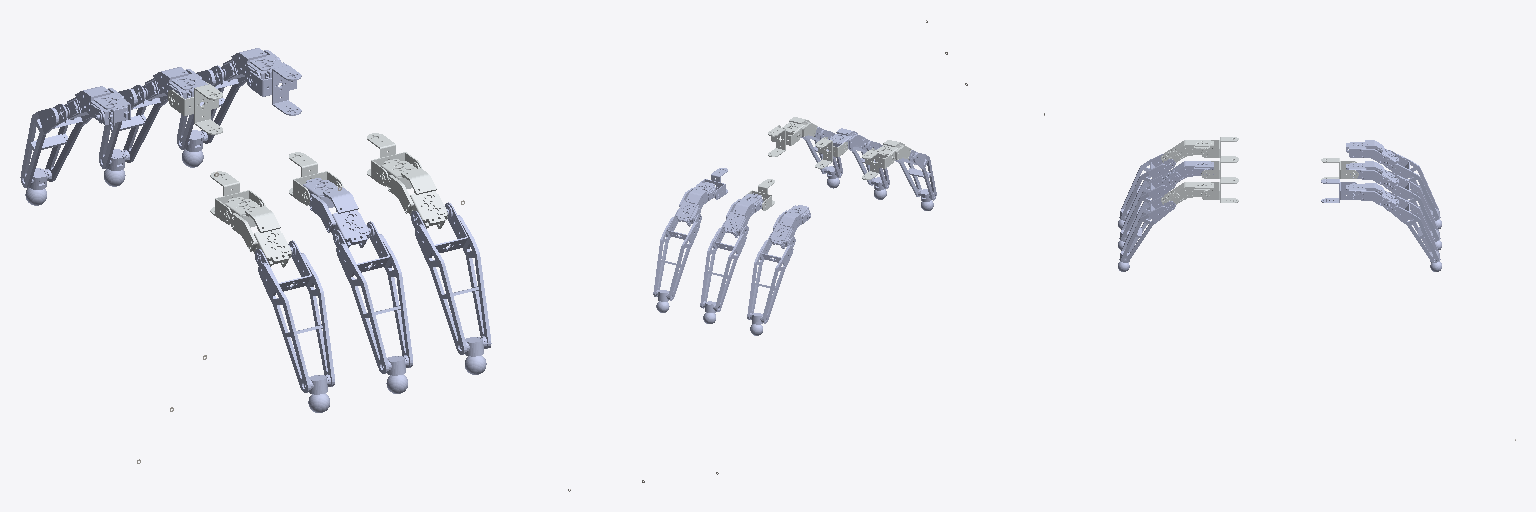
--- Render facts (derived) ---
3 views of the same robot in one strip: view 1: azimuth 30°, elevation 25°; view 2: azimuth 150°, elevation 25°; view 3: azimuth 270°, elevation 25° (orthographic).
Model Main_body_and_legs_assembly_v2 with 25 links and 24 joints (18 revolute, 6 fixed), rooted at base, posed every joint at zero.
Visible links, largest first — view 1: link_5C, link_4C, link_6C, link_3C, link_2C, link_4B, link_6B, link_5B, link_1C, link_3B, link_1A, link_2A (+5 smaller); view 2: link_3C, link_1C, link_2C, link_6C, link_3B, link_2B, link_1B, link_5C, link_4C, link_4A, link_5A, link_6A; view 3: link_1C, link_4C, link_3C, link_2C, link_6C, link_5C, link_3B, link_2B, link_1B, link_4B, link_5B, link_6B.
Boxes of the visible links, x1=… form: link_5C: x1=333, y1=221, x2=412, y2=393; link_4C: x1=411, y1=202, x2=491, y2=374; link_6C: x1=255, y1=240, x2=334, y2=412; link_3C: x1=20, y1=104, x2=93, y2=205; link_2C: x1=99, y1=85, x2=167, y2=186; link_4B: x1=381, y1=159, x2=447, y2=228; link_6B: x1=225, y1=197, x2=291, y2=267; link_5B: x1=303, y1=178, x2=369, y2=247; link_1C: x1=177, y1=65, x2=245, y2=167; link_3B: x1=64, y1=86, x2=130, y2=126; link_1A: x1=246, y1=62, x2=301, y2=115; link_2A: x1=168, y1=82, x2=222, y2=134; link_3C: x1=747, y1=233, x2=795, y2=335; link_1C: x1=653, y1=209, x2=701, y2=312; link_2C: x1=700, y1=222, x2=748, y2=323; link_6C: x1=895, y1=150, x2=936, y2=210; link_3B: x1=769, y1=205, x2=810, y2=248; link_2B: x1=723, y1=193, x2=763, y2=237; link_1B: x1=676, y1=182, x2=715, y2=226; link_5C: x1=849, y1=139, x2=889, y2=199; link_4C: x1=801, y1=127, x2=842, y2=188; link_4A: x1=768, y1=125, x2=801, y2=156; link_5A: x1=815, y1=137, x2=847, y2=168; link_6A: x1=862, y1=148, x2=894, y2=179; link_1C: x1=1384, y1=192, x2=1441, y2=271; link_4C: x1=1118, y1=196, x2=1175, y2=271; link_3C: x1=1384, y1=150, x2=1441, y2=228; link_2C: x1=1384, y1=171, x2=1441, y2=249; link_6C: x1=1118, y1=154, x2=1175, y2=228; link_5C: x1=1118, y1=175, x2=1175, y2=249; link_3B: x1=1346, y1=140, x2=1398, y2=165; link_2B: x1=1346, y1=161, x2=1398, y2=186; link_1B: x1=1346, y1=183, x2=1398, y2=207; link_4B: x1=1161, y1=182, x2=1213, y2=205; link_5B: x1=1161, y1=161, x2=1213, y2=186; link_6B: x1=1161, y1=140, x2=1213, y2=165.
Bounding box of the posed robot: 0.5184 × 1.16 × 0.7715 m (x, y, z).
Meshes: 11 distinct files referenced, 23 mesh visuals loaded (9 binary STL); not drawn: 2 (reference not matched to a file when rendering).

robot.urdf — Main_body_and_legs_assembly_v2:
<?xml version="1.0" encoding="utf-8"?>
<!-- This URDF was automatically created by SolidWorks to URDF Exporter! Originally created by Stephen Brawner ([email redacted]) 
     Commit Version: 1.6.0-4-g7f85cfe  Build Version: 1.6.7995.38578
     For more information, please see http://wiki.ros.org/sw_urdf_exporter -->
<robot
  name="Main_body_and_legs_assembly_v2">
  <link
    name="base">
    <inertial>
      <origin
        xyz="3.06905926068662E-05 8.52004995787279E-05 0.0204545302913889"
        rpy="0 0 0" />
      <mass
        value="1.98762838832469" />
      <inertia
        ixx="0.00418492339355666"
        ixy="-2.21548596146903E-12"
        ixz="-1.92233886023323E-14"
        iyy="0.0126897684477545"
        iyz="1.7530700223516E-13"
        izz="0.0167899601162181" />
    </inertial>
    <visual>
      <origin
        xyz="0 0 0"
        rpy="0 0 0" />
      <geometry>
        <mesh
          filename="package://Main_body_and_legs_assembly_v2/meshes/base.STL" />
      </geometry>
      <material
        name="">
        <color
          rgba="0.776470588235294 0.756862745098039 0.737254901960784 1" />
      </material>
    </visual>
    <collision>
      <origin
        xyz="0 0 0"
        rpy="0 0 0" />
      <geometry>
        <mesh
          filename="package://Main_body_and_legs_assembly_v2/meshes/base.STL" />
      </geometry>
    </collision>
  </link>
  <link
    name="link_1A">
    <inertial>
      <origin
        xyz="0.0365082022466295 0.00124839425515202 0.00125665986958783"
        rpy="0 0 0" />
      <mass
        value="0.0419431230011461" />
      <inertia
        ixx="1.98069360741525E-05"
        ixy="-2.12798993589226E-20"
        ixz="1.78912713620689E-15"
        iyy="1.66928950494981E-05"
        iyz="-3.23493559974154E-17"
        izz="1.66486725692838E-05" />
    </inertial>
    <visual>
      <origin
        xyz="0 0 0"
        rpy="0 0 0" />
      <geometry>
        <mesh
          filename="package://Main_body_and_legs_assembly_v2/meshes/linkA.STL" />
      </geometry>
      <material
        name="">
        <color
          rgba="0.792156862745098 0.819607843137255 0.933333333333333 1" />
      </material>
    </visual>
    <collision>
      <origin
        xyz="0 0 0"
        rpy="0 0 0" />
      <geometry>
        <mesh
          filename="package://Main_body_and_legs_assembly_v2/meshes/linkA.STL" />
      </geometry>
    </collision>
  </link>
  <joint
    name="joint_1A"
    type="revolute">
    <origin
      xyz="0.123 0.1143 0.027125"
      rpy="0 0 1.5708" />
    <parent
      link="base" />
    <child
      link="link_1A" />
    <axis
      xyz="0 0 1" />
    <limit
      lower="-1.5708"
      upper="1.5708"
      effort="1000"
      velocity="1" />
  </joint>
  <link
    name="link_1B">
    <inertial>
      <origin
        xyz="0.0466313826695305 0.00745781088796387 -0.000487069857446426"
        rpy="0 0 0" />
      <mass
        value="0.13674823781844" />
      <inertia
        ixx="2.34124688667489E-05"
        ixy="-4.38499697815386E-06"
        ixz="-9.21245381890255E-08"
        iyy="3.59373204224481E-05"
        iyz="2.92176241694494E-07"
        izz="3.03894454098166E-05" />
    </inertial>
    <visual>
      <origin
        xyz="0 0 0"
        rpy="0 0 0" />
      <geometry>
        <mesh
          filename="package://Main_body_and_legs_assembly_v2/meshes/linkB.STL" />
      </geometry>
      <material
        name="">
        <color
          rgba="0.792156862745098 0.819607843137255 0.933333333333333 1" />
      </material>
    </visual>
    <collision>
      <origin
        xyz="0 0 0"
        rpy="0 0 0" />
      <geometry>
        <mesh
          filename="package://Main_body_and_legs_assembly_v2/meshes/linkB.STL" />
      </geometry>
    </collision>
  </link>
  <joint
    name="joint_1B"
    type="revolute">
    <origin
      xyz="0.0676 0 0"
      rpy="-1.5708 0 0" />
    <parent
      link="link_1A" />
    <child
      link="link_1B" />
    <axis
      xyz="0 0 1" />
    <limit
      lower="-1.5708"
      upper="1.5708"
      effort="1000"
      velocity="1" />
  </joint>
  <link
    name="link_1C">
    <inertial>
      <origin
        xyz="0.0696117108170191 0.0836285031786368 0.000572339482803691"
        rpy="0 0 0" />
      <mass
        value="0.0955360213738482" />
      <inertia
        ixx="0.000113611278023489"
        ixy="-5.96071871988294E-05"
        ixz="-7.37144544599053E-07"
        iyy="6.53324044472298E-05"
        iyz="-7.75583132884179E-07"
        izz="0.000145627712780489" />
    </inertial>
    <visual>
      <origin
        xyz="0 0 0"
        rpy="0 0 0" />
      <geometry>
        <mesh
          filename="package://Main_body_and_legs_assembly_v2/meshes/linkC.STL" />
      </geometry>
      <material
        name="">
        <color
          rgba="0.792156862745098 0.819607843137255 0.933333333333333 1" />
      </material>
    </visual>
    <collision>
      <origin
        xyz="0 0 0"
        rpy="0 0 0" />
      <geometry>
        <mesh
          filename="package://Main_body_and_legs_assembly_v2/meshes/linkC.STL" />
      </geometry>
    </collision>
  </link>
  <joint
    name="joint_1C"
    type="revolute">
    <origin
      xyz="0.088094 0.027776 0"
      rpy="0 0 0" />
    <parent
      link="link_1B" />
    <child
      link="link_1C" />
    <axis
      xyz="0 0 1" />
    <limit
      lower="-3.1416"
      upper="0"
      effort="1000"
      velocity="1" />
  </joint>
  <link
    name="end_1">
    <inertial>
      <origin
        xyz="-0.00410004483583903 -0.0195989667647062 0.0438432984176538"
        rpy="0 0 0" />
      <mass
        value="0.000121627101665076" />
      <inertia
        ixx="4.52377066090502E-10"
        ixy="-3.08492480319445E-24"
        ixz="-1.56170968596841E-25"
        iyy="8.99721204847131E-10"
        iyz="8.5268521208753E-25"
        izz="4.52377066090501E-10" />
    </inertial>
    <visual>
      <origin
        xyz="0 0 0"
        rpy="0 0 0" />
      <geometry>
        <mesh
          filename="package://Main_body_and_legs_assembly_v2/meshes/end_1.STL" />
      </geometry>
      <material
        name="">
        <color
          rgba="0.776470588235294 0.756862745098039 0.737254901960784 1" />
      </material>
    </visual>
    <collision>
      <origin
        xyz="0 0 0"
        rpy="0 0 0" />
      <geometry>
        <mesh
          filename="package://Main_body_and_legs_assembly_v2/meshes/end_1.STL" />
      </geometry>
    </collision>
  </link>
  <joint
    name="end_1"
    type="fixed">
    <origin
      xyz="0.11638 0.19263 0"
      rpy="1.5708 0 0" />
    <parent
      link="link_1C" />
    <child
      link="end_1" />
    <axis
      xyz="0 0 0" />
  </joint>
  <link
    name="link_2A">
    <inertial>
      <origin
        xyz="0.0338000000000001 3.46944695195361E-17 -4.85722573273506E-17"
        rpy="0 0 0" />
      <mass
        value="0.0341524059403894" />
      <inertia
        ixx="1.96868649597394E-05"
        ixy="-2.25236268448084E-20"
        ixz="-1.09842144299169E-20"
        iyy="1.65457575690771E-05"
        iyz="6.9144272968417E-21"
        izz="1.65457575690771E-05" />
    </inertial>
    <visual>
      <origin
        xyz="0 0 0"
        rpy="0 0 0" />
      <geometry>
        <mesh
          filename="package://Main_body_and_legs_assembly_v2/meshes/linkA.STL" />
      </geometry>
      <material
        name="">
        <color
          rgba="0.898039215686275 0.917647058823529 0.929411764705882 1" />
      </material>
    </visual>
    <collision>
      <origin
        xyz="0 0 0"
        rpy="0 0 0" />
      <geometry>
        <mesh
          filename="package://Main_body_and_legs_assembly_v2/meshes/linkA.STL" />
      </geometry>
    </collision>
  </link>
  <joint
    name="joint_2A"
    type="revolute">
    <origin
      xyz="0 0.1143 0.027125"
      rpy="0 0 1.5708" />
    <parent
      link="base" />
    <child
      link="link_2A" />
    <axis
      xyz="0 0 1" />
    <limit
      lower="-1.5708"
      upper="1.5708"
      effort="1000"
      velocity="1" />
  </joint>
  <link
    name="link_2B">
    <inertial>
      <origin
        xyz="0.0477268124413496 0.00221734589930919 -0.00521377788396642"
        rpy="0 0 0" />
      <mass
        value="0.0532818021430644" />
      <inertia
        ixx="1.11052234753137E-05"
        ixy="-2.3453349714939E-06"
        ixz="-9.6521921313802E-08"
        iyy="1.78041960290935E-05"
        iyz="3.06121882148187E-07"
        izz="1.65887137379392E-05" />
    </inertial>
    <visual>
      <origin
        xyz="0 0 0"
        rpy="0 0 0" />
      <geometry>
        <mesh
          filename="package://Main_body_and_legs_assembly_v2/meshes/linkB.STL" />
      </geometry>
      <material
        name="">
        <color
          rgba="0.792156862745098 0.819607843137255 0.933333333333333 1" />
      </material>
    </visual>
    <collision>
      <origin
        xyz="0 0 0"
        rpy="0 0 0" />
      <geometry>
        <mesh
          filename="package://Main_body_and_legs_assembly_v2/meshes/linkB.STL" />
      </geometry>
    </collision>
  </link>
  <joint
    name="joint_2B"
    type="revolute">
    <origin
      xyz="0.0676 0 0"
      rpy="-1.5708 0 0" />
    <parent
      link="link_2A" />
    <child
      link="link_2B" />
    <axis
      xyz="0 0 1" />
    <limit
      lower="-1.5708"
      upper="1.5708"
      effort="1000"
      velocity="1" />
  </joint>
  <link
    name="link_2C">
    <inertial>
      <origin
        xyz="0.0675135596023975 0.0790176735898887 -1.48140645468281E-05"
        rpy="0 0 0" />
      <mass
        value="0.0849452422466676" />
      <inertia
        ixx="0.000113099905748951"
        ixy="-5.95933219193289E-05"
        ixz="-7.37144578192914E-07"
        iyy="6.49724187416238E-05"
        iyz="-7.7558259893965E-07"
        izz="0.000145042611120918" />
    </inertial>
    <visual>
      <origin
        xyz="0 0 0"
        rpy="0 0 0" />
      <geometry>
        <mesh
          filename="package://Main_body_and_legs_assembly_v2/meshes/linkC.STL" />
      </geometry>
      <material
        name="">
        <color
          rgba="0.792156862745098 0.819607843137255 0.933333333333333 1" />
      </material>
    </visual>
    <collision>
      <origin
        xyz="0 0 0"
        rpy="0 0 0" />
      <geometry>
        <mesh
          filename="package://Main_body_and_legs_assembly_v2/meshes/linkC.STL" />
      </geometry>
    </collision>
  </link>
  <joint
    name="joint_2C"
    type="revolute">
    <origin
      xyz="0.088094 0.027776 0"
      rpy="0 0 0" />
    <parent
      link="link_2B" />
    <child
      link="link_2C" />
    <axis
      xyz="0 0 1" />
    <limit
      lower="-3.1416"
      upper="0"
      effort="1000"
      velocity="1" />
  </joint>
  <link
    name="end_2">
    <inertial>
      <origin
        xyz="-0.00410004483584059 -0.0195989667647089 0.0438432984176536"
        rpy="0 0 0" />
      <mass
        value="0.000121627101665075" />
      <inertia
        ixx="4.52377066090495E-10"
        ixy="2.89946777015303E-25"
        ixz="2.44432529866028E-26"
        iyy="8.99721204847118E-10"
        iyz="-8.49539194842277E-25"
        izz="4.52377066090494E-10" />
    </inertial>
    <visual>
      <origin
        xyz="0 0 0"
        rpy="0 0 0" />
      <geometry>
        <mesh
          filename="package://Main_body_and_legs_assembly_v2/meshes/end_2.STL" />
      </geometry>
      <material
        name="">
        <color
          rgba="0.776470588235294 0.756862745098039 0.737254901960784 1" />
      </material>
    </visual>
    <collision>
      <origin
        xyz="0 0 0"
        rpy="0 0 0" />
      <geometry>
        <mesh
          filename="package://Main_body_and_legs_assembly_v2/meshes/end_2.STL" />
      </geometry>
    </collision>
  </link>
  <joint
    name="end_2"
    type="fixed">
    <origin
      xyz="0.11638 0.19263 0"
      rpy="1.5708 0 0" />
    <parent
      link="link_2C" />
    <child
      link="end_2" />
    <axis
      xyz="0 0 0" />
  </joint>
  <link
    name="linik_3A">
    <inertial>
      <origin
        xyz="0.0338000000000001 1.38777878078145E-17 0"
        rpy="0 0 0" />
      <mass
        value="0.0341524059403893" />
      <inertia
        ixx="1.96868649597393E-05"
        ixy="-6.83260352352941E-22"
        ixz="-5.54167693821813E-21"
        iyy="1.6545757569077E-05"
        iyz="9.56887699897572E-21"
        izz="1.65457575690771E-05" />
    </inertial>
    <visual>
      <origin
        xyz="0 0 0"
        rpy="0 0 0" />
      <geometry>
        <mesh
          filename="package://Main_body_and_legs_assembly_v2/meshes/linikA.STL" />
      </geometry>
      <material
        name="">
        <color
          rgba="0.898039215686275 0.917647058823529 0.929411764705882 1" />
      </material>
    </visual>
    <collision>
      <origin
        xyz="0 0 0"
        rpy="0 0 0" />
      <geometry>
        <mesh
          filename="package://Main_body_and_legs_assembly_v2/meshes/linikA.STL" />
      </geometry>
    </collision>
  </link>
  <joint
    name="join_3A"
    type="revolute">
    <origin
      xyz="-0.123 0.1143 0.027125"
      rpy="0 0 1.5708" />
    <parent
      link="base" />
    <child
      link="linik_3A" />
    <axis
      xyz="0 0 1" />
    <limit
      lower="-1.5708"
      upper="1.5708"
      effort="1000"
      velocity="1" />
  </joint>
  <link
    name="link_3B">
    <inertial>
      <origin
        xyz="0.0477268124413495 0.00221734589930918 -0.00521377788396642"
        rpy="0 0 0" />
      <mass
        value="0.0532818021430644" />
      <inertia
        ixx="1.11052234753137E-05"
        ixy="-2.3453349714939E-06"
        ixz="-9.65219213137863E-08"
        iyy="1.78041960290935E-05"
        iyz="3.06121882148191E-07"
        izz="1.65887137379392E-05" />
    </inertial>
    <visual>
      <origin
        xyz="0 0 0"
        rpy="0 0 0" />
      <geometry>
        <mesh
          filename="package://Main_body_and_legs_assembly_v2/meshes/linkB.STL" />
      </geometry>
      <material
        name="">
        <color
          rgba="0.792156862745098 0.819607843137255 0.933333333333333 1" />
      </material>
    </visual>
    <collision>
      <origin
        xyz="0 0 0"
        rpy="0 0 0" />
      <geometry>
        <mesh
          filename="package://Main_body_and_legs_assembly_v2/meshes/linkB.STL" />
      </geometry>
    </collision>
  </link>
  <joint
    name="joint_3B"
    type="revolute">
    <origin
      xyz="0.0676 0 0"
      rpy="-1.5708 0 0" />
    <parent
      link="linik_3A" />
    <child
      link="link_3B" />
    <axis
      xyz="0 0 1" />
    <limit
      lower="-1.5708"
      upper="1.5708"
      effort="1000"
      velocity="1" />
  </joint>
  <link
    name="link_3C">
    <inertial>
      <origin
        xyz="0.0675135596023975 0.0790176735898887 -1.48140645467448E-05"
        rpy="0 0 0" />
      <mass
        value="0.0849452422466675" />
      <inertia
        ixx="0.000113099905748951"
        ixy="-5.95933219193289E-05"
        ixz="-7.37144578192875E-07"
        iyy="6.49724187416236E-05"
        iyz="-7.75582598939603E-07"
        izz="0.000145042611120918" />
    </inertial>
    <visual>
      <origin
        xyz="0 0 0"
        rpy="0 0 0" />
      <geometry>
        <mesh
          filename="package://Main_body_and_legs_assembly_v2/meshes/linkC.STL" />
      </geometry>
      <material
        name="">
        <color
          rgba="0.792156862745098 0.819607843137255 0.933333333333333 1" />
      </material>
    </visual>
    <collision>
      <origin
        xyz="0 0 0"
        rpy="0 0 0" />
      <geometry>
        <mesh
          filename="package://Main_body_and_legs_assembly_v2/meshes/linkC.STL" />
      </geometry>
    </collision>
  </link>
  <joint
    name="joint_3C"
    type="revolute">
    <origin
      xyz="0.088094 0.027776 0"
      rpy="0 0 0" />
    <parent
      link="link_3B" />
    <child
      link="link_3C" />
    <axis
      xyz="0 0 1" />
    <limit
      lower="-3.1416"
      upper="0"
      effort="1000"
      velocity="1" />
  </joint>
  <link
    name="end_3">
    <inertial>
      <origin
        xyz="-0.00410004483584153 -0.0195989667647089 0.0438432984176525"
        rpy="0 0 0" />
      <mass
        value="0.000121627101665075" />
      <inertia
        ixx="4.52377066090494E-10"
        ixy="6.98581019903332E-25"
        ixz="7.30940327642206E-26"
        iyy="8.99721204847117E-10"
        iyz="5.16562939105432E-25"
        izz="4.52377066090494E-10" />
    </inertial>
    <visual>
      <origin
        xyz="0 0 0"
        rpy="0 0 0" />
      <geometry>
        <mesh
          filename="package://Main_body_and_legs_assembly_v2/meshes/end_3.STL" />
      </geometry>
      <material
        name="">
        <color
          rgba="0.776470588235294 0.756862745098039 0.737254901960784 1" />
      </material>
    </visual>
    <collision>
      <origin
        xyz="0 0 0"
        rpy="0 0 0" />
      <geometry>
        <mesh
          filename="package://Main_body_and_legs_assembly_v2/meshes/end_3.STL" />
      </geometry>
    </collision>
  </link>
  <joint
    name="end_3"
    type="fixed">
    <origin
      xyz="0.11638 0.19263 0"
      rpy="1.5708 0 0" />
    <parent
      link="link_3C" />
    <child
      link="end_3" />
    <axis
      xyz="0 0 0" />
  </joint>
  <link
    name="link_4A">
    <inertial>
      <origin
        xyz="0.0338 -2.77555756156289E-17 6.93889390390723E-18"
        rpy="0 0 0" />
      <mass
        value="0.0341524059403893" />
      <inertia
        ixx="1.96868649597393E-05"
        ixy="-1.10265468437645E-21"
        ixz="8.428060913054E-21"
        iyy="1.6545757569077E-05"
        iyz="8.32263974150179E-21"
        izz="1.6545757569077E-05" />
    </inertial>
    <visual>
      <origin
        xyz="0 0 0"
        rpy="0 0 0" />
      <geometry>
        <mesh
          filename="package://Main_body_and_legs_assembly_v2/meshes/linkA.STL" />
      </geometry>
      <material
        name="">
        <color
          rgba="0.898039215686275 0.917647058823529 0.929411764705882 1" />
      </material>
    </visual>
    <collision>
      <origin
        xyz="0 0 0"
        rpy="0 0 0" />
      <geometry>
        <mesh
          filename="package://Main_body_and_legs_assembly_v2/meshes/linkA.STL" />
      </geometry>
    </collision>
  </link>
  <joint
    name="joint_4A"
    type="revolute">
    <origin
      xyz="0.123 -0.1143 0.027125"
      rpy="0 0 -1.5708" />
    <parent
      link="base" />
    <child
      link="link_4A" />
    <axis
      xyz="0 0 1" />
    <limit
      lower="-1.5708"
      upper="1.5708"
      effort="1000"
      velocity="1" />
  </joint>
  <link
    name="link_4B">
    <inertial>
      <origin
        xyz="0.0548901243382081 0.00975728520332532 0.00223982654764818"
        rpy="0 0 0" />
      <mass
        value="0.0652795410633985" />
      <inertia
        ixx="1.18257231594884E-05"
        ixy="-2.20604091274123E-06"
        ixz="8.00665659012232E-08"
        iyy="1.7690724162594E-05"
        iyz="8.97316250264323E-08"
        izz="1.47906502270655E-05" />
    </inertial>
    <visual>
      <origin
        xyz="0 0 0"
        rpy="0 0 0" />
      <geometry>
        <mesh
          filename="package://Main_body_and_legs_assembly_v2/meshes/linkB.STL" />
      </geometry>
      <material
        name="">
        <color
          rgba="0.898039215686275 0.917647058823529 0.929411764705882 1" />
      </material>
    </visual>
    <collision>
      <origin
        xyz="0 0 0"
        rpy="0 0 0" />
      <geometry>
        <mesh
          filename="package://Main_body_and_legs_assembly_v2/meshes/linkB.STL" />
      </geometry>
    </collision>
  </link>
  <joint
    name="joint_4B"
    type="revolute">
    <origin
      xyz="0.0676 0 0"
      rpy="-1.5708 0 0" />
    <parent
      link="link_4A" />
    <child
      link="link_4B" />
    <axis
      xyz="0 0 1" />
    <limit
      lower="-1.5708"
      upper="1.5708"
      effort="1000"
      velocity="1" />
  </joint>
  <link
    name="link_4C">
    <inertial>
      <origin
        xyz="0.0691356551065098 0.0722031911758511 -2.79215990402482E-05"
        rpy="0 0 0" />
      <mass
        value="0.0450243950253752" />
      <inertia
        ixx="9.52243308302762E-05"
        ixy="-5.6031526729293E-05"
        ixz="-7.37162092416096E-07"
        iyy="4.4230695063899E-05"
        iyz="-7.75577330057588E-07"
        izz="0.000133295391768205" />
    </inertial>
    <visual>
      <origin
        xyz="0 0 0"
        rpy="0 0 0" />
      <geometry>
        <mesh
          filename="package://Main_body_and_legs_assembly_v2/meshes/linkC.STL" />
      </geometry>
      <material
        name="">
        <color
          rgba="0.792156862745098 0.819607843137255 0.933333333333333 1" />
      </material>
    </visual>
    <collision>
      <origin
        xyz="0 0 0"
        rpy="0 0 0" />
      <geometry>
        <mesh
          filename="package://Main_body_and_legs_assembly_v2/meshes/linkC.STL" />
      </geometry>
    </collision>
  </link>
  <joint
    name="joint_4C"
    type="revolute">
    <origin
      xyz="0.088094 0.027776 0"
      rpy="0 0 0" />
    <parent
      link="link_4B" />
    <child
      link="link_4C" />
    <axis
      xyz="0 0 1" />
    <limit
      lower="-3.1416"
      upper="0"
      effort="1000"
      velocity="1" />
  </joint>
  <link
    name="end_4">
    <inertial>
      <origin
        xyz="-0.00410004483583909 0.0195989667647062 0.0438432984176537"
        rpy="0 0 0" />
      <mass
        value="0.000121627101665079" />
      <inertia
        ixx="4.52377066090513E-10"
        ixy="3.80378277890683E-24"
        ixz="3.80944339010322E-26"
        iyy="8.99721204847155E-10"
        iyz="1.07812287688573E-24"
        izz="4.52377066090514E-10" />
    </inertial>
    <visual>
      <origin
        xyz="0 0 0"
        rpy="0 0 0" />
      <geometry>
        <mesh
          filename="package://Main_body_and_legs_assembly_v2/meshes/end_4.STL" />
      </geometry>
      <material
        name="">
        <color
          rgba="0.776470588235294 0.756862745098039 0.737254901960784 1" />
      </material>
    </visual>
    <collision>
      <origin
        xyz="0 0 0"
        rpy="0 0 0" />
      <geometry>
        <mesh
          filename="package://Main_body_and_legs_assembly_v2/meshes/end_4.STL" />
      </geometry>
    </collision>
  </link>
  <joint
    name="end_4"
    type="fixed">
    <origin
      xyz="0.11638 0.19263 0"
      rpy="1.5708 0 0" />
    <parent
      link="link_4C" />
    <child
      link="end_4" />
    <axis
      xyz="0 0 0" />
  </joint>
  <link
    name="link_5A">
    <inertial>
      <origin
        xyz="0.0338 3.46944695195361E-17 -3.46944695195361E-17"
        rpy="0 0 0" />
      <mass
        value="0.0341524059403895" />
      <inertia
        ixx="1.96868649597394E-05"
        ixy="-1.47949234785216E-20"
        ixz="-1.27676322871883E-20"
        iyy="1.65457575690771E-05"
        iyz="5.95032510376786E-21"
        izz="1.65457575690771E-05" />
    </inertial>
    <visual>
      <origin
        xyz="0 0 0"
        rpy="0 0 0" />
      <geometry>
        <mesh
          filename="package://Main_body_and_legs_assembly_v2/meshes/linkA.STL" />
      </geometry>
      <material
        name="">
        <color
          rgba="0.898039215686275 0.917647058823529 0.929411764705882 1" />
      </material>
    </visual>
    <collision>
      <origin
        xyz="0 0 0"
        rpy="0 0 0" />
      <geometry>
        <mesh
          filename="package://Main_body_and_legs_assembly_v2/meshes/linkA.STL" />
      </geometry>
    </collision>
  </link>
  <joint
    name="joint_5A"
    type="revolute">
    <origin
      xyz="0 -0.1143 0.027125"
      rpy="0 0 -1.5708" />
    <parent
      link="base" />
    <child
      link="link_5A" />
    <axis
      xyz="0 0 1" />
    <limit
      lower="-1.5708"
      upper="1.5708"
      effort="1000"
      velocity="1" />
  </joint>
  <link
    name="link_5B">
    <inertial>
      <origin
        xyz="0.0281338220437115 0.00206414493964424 -0.00616045955038509"
        rpy="0 0 0" />
      <mass
        value="0.0632362894323662" />
      <inertia
        ixx="1.30611376264431E-05"
        ixy="-1.4837421680611E-06"
        ixz="-2.21926196482373E-07"
        iyy="2.08931841634217E-05"
        iyz="7.9987872399068E-07"
        izz="1.56889686517995E-05" />
    </inertial>
    <visual>
      <origin
        xyz="0 0 0"
        rpy="0 0 0" />
      <geometry>
        <mesh
          filename="package://Main_body_and_legs_assembly_v2/meshes/linkB.STL" />
      </geometry>
      <material
        name="">
        <color
          rgba="0.792156862745098 0.819607843137255 0.933333333333333 1" />
      </material>
    </visual>
    <collision>
      <origin
        xyz="0 0 0"
        rpy="0 0 0" />
      <geometry>
        <mesh
          filename="package://Main_body_and_legs_assembly_v2/meshes/linkB.STL" />
      </geometry>
    </collision>
  </link>
  <joint
    name="joint_5B"
    type="revolute">
    <origin
      xyz="0.0676 0 0"
      rpy="-1.5708 0 0" />
    <parent
      link="link_5A" />
    <child
      link="link_5B" />
    <axis
      xyz="0 0 1" />
    <limit
      lower="-1.5708"
      upper="1.5708"
      effort="1000"
      velocity="1" />
  </joint>
  <link
    name="link_5C">
    <inertial>
      <origin
        xyz="0.0691356551065098 0.072203191175851 -2.79215990403731E-05"
        rpy="0 0 0" />
      <mass
        value="0.0450243950253752" />
      <inertia
        ixx="9.52243308302762E-05"
        ixy="-5.6031526729293E-05"
        ixz="-7.37162092416138E-07"
        iyy="4.4230695063899E-05"
        iyz="-7.75577330057605E-07"
        izz="0.000133295391768205" />
    </inertial>
    <visual>
      <origin
        xyz="0 0 0"
        rpy="0 0 0" />
      <geometry>
        <mesh
          filename="package://Main_body_and_legs_assembly_v2/meshes/linkC.STL" />
      </geometry>
      <material
        name="">
        <color
          rgba="0.792156862745098 0.819607843137255 0.933333333333333 1" />
      </material>
    </visual>
    <collision>
      <origin
        xyz="0 0 0"
        rpy="0 0 0" />
      <geometry>
        <mesh
          filename="package://Main_body_and_legs_assembly_v2/meshes/linkC.STL" />
      </geometry>
    </collision>
  </link>
  <joint
    name="joint_5C"
    type="revolute">
    <origin
      xyz="0.088094 0.027776 0"
      rpy="0 0 0" />
    <parent
      link="link_5B" />
    <child
      link="link_5C" />
    <axis
      xyz="0 0 1" />
    <limit
      lower="-3.1416"
      upper="0"
      effort="1000"
      velocity="1" />
  </joint>
  <link
    name="end_5">
    <inertial>
      <origin
        xyz="-0.00410004483584081 0.0195989667647085 0.0438432984176532"
        rpy="0 0 0" />
      <mass
        value="0.000121627101665074" />
      <inertia
        ixx="4.5237706609049E-10"
        ixy="-1.1586100411982E-25"
        ixz="9.55400297038205E-28"
        iyy="8.99721204847109E-10"
        iyz="5.15477091279902E-25"
        izz="4.5237706609049E-10" />
    </inertial>
    <visual>
      <origin
        xyz="0 0 0"
        rpy="0 0 0" />
      <geometry>
        <mesh
          filename="package://Main_body_and_legs_assembly_v2/meshes/end_5.STL" />
      </geometry>
      <material
        name="">
        <color
          rgba="0.776470588235294 0.756862745098039 0.737254901960784 1" />
      </material>
    </visual>
    <collision>
      <origin
        xyz="0 0 0"
        rpy="0 0 0" />
      <geometry>
        <mesh
          filename="package://Main_body_and_legs_assembly_v2/meshes/end_5.STL" />
      </geometry>
    </collision>
  </link>
  <joint
    name="end_5"
    type="fixed">
    <origin
      xyz="0.11638 0.19263 0"
      rpy="1.5708 0 0" />
    <parent
      link="link_5C" />
    <child
      link="end_5" />
    <axis
      xyz="0 0 0" />
  </joint>
  <link
    name="link_6A">
    <inertial>
      <origin
        xyz="0.0200966387284088 -1.38777878078145E-17 -9.0205620750794E-17"
        rpy="0 0 0" />
      <mass
        value="0.0170762029701947" />
      <inertia
        ixx="9.84343247986968E-06"
        ixy="-8.96331108691267E-22"
        ixz="-8.8579353702754E-21"
        iyy="1.22807539986136E-05"
        iyz="-3.09610337499698E-21"
        izz="4.26500357046348E-06" />
    </inertial>
    <visual>
      <origin
        xyz="0 0 0"
        rpy="0 0 0" />
      <geometry>
        <mesh
          filename="package://Main_body_and_legs_assembly_v2/meshes/linkA.STL" />
      </geometry>
      <material
        name="">
        <color
          rgba="0.898039215686275 0.917647058823529 0.929411764705882 1" />
      </material>
    </visual>
    <collision>
      <origin
        xyz="0 0 0"
        rpy="0 0 0" />
      <geometry>
        <mesh
          filename="package://Main_body_and_legs_assembly_v2/meshes/linkA.STL" />
      </geometry>
    </collision>
  </link>
  <joint
    name="joint_6A"
    type="revolute">
    <origin
      xyz="-0.123 -0.1143 0.027125"
      rpy="0 0 -1.5708" />
    <parent
      link="base" />
    <child
      link="link_6A" />
    <axis
      xyz="0 0 1" />
    <limit
      lower="-1.5708"
      upper="1.5708"
      effort="1000"
      velocity="1" />
  </joint>
  <link
    name="link_6B">
    <inertial>
      <origin
        xyz="0.0470944543092932 0.00422293619787709 -0.0106620647424304"
        rpy="0 0 0" />
      <mass
        value="0.0309095029465362" />
      <inertia
        ixx="7.87565609616052E-06"
        ixy="-1.48374226439959E-06"
        ixz="-2.52202898074651E-07"
        iyy="1.21136648352194E-05"
        iyz="7.99878858861314E-07"
        izz="9.98803847611489E-06" />
    </inertial>
    <visual>
      <origin
        xyz="0 0 0"
        rpy="0 0 0" />
      <geometry>
        <mesh
          filename="package://Main_body_and_legs_assembly_v2/meshes/linkB.STL" />
      </geometry>
      <material
        name="">
        <color
          rgba="0.898039215686275 0.917647058823529 0.929411764705882 1" />
      </material>
    </visual>
    <collision>
      <origin
        xyz="0 0 0"
        rpy="0 0 0" />
      <geometry>
        <mesh
          filename="package://Main_body_and_legs_assembly_v2/meshes/linkB.STL" />
      </geometry>
    </collision>
  </link>
  <joint
    name="joint_6B"
    type="revolute">
    <origin
      xyz="0.0676 0 0"
      rpy="-1.5708 0 0" />
    <parent
      link="link_6A" />
    <child
      link="link_6B" />
    <axis
      xyz="0 0 1" />
    <limit
      lower="-1.5708"
      upper="1.5708"
      effort="1000"
      velocity="1" />
  </joint>
  <link
    name="link_6C">
    <inertial>
      <origin
        xyz="0.0697808888465137 0.0728818743520102 -0.0227003855153271"
        rpy="0 0 0" />
      <mass
        value="0.0239812742514519" />
      <inertia
        ixx="4.89271620791903E-05"
        ixy="-2.81778017112261E-05"
        ixz="-3.22730454689505E-06"
        iyy="2.34286998419899E-05"
        iyz="-4.71726475473415E-06"
        izz="6.70206065643009E-05" />
    </inertial>
    <visual>
      <origin
        xyz="0 0 0"
        rpy="0 0 0" />
      <geometry>
        <mesh
          filename="package://Main_body_and_legs_assembly_v2/meshes/linkC.STL" />
      </geometry>
      <material
        name="">
        <color
          rgba="0.792156862745098 0.819607843137255 0.933333333333333 1" />
      </material>
    </visual>
    <collision>
      <origin
        xyz="0 0 0"
        rpy="0 0 0" />
      <geometry>
        <mesh
          filename="package://Main_body_and_legs_assembly_v2/meshes/linkC.STL" />
      </geometry>
    </collision>
  </link>
  <joint
    name="joint_6C"
    type="revolute">
    <origin
      xyz="0.088094 0.027776 0"
      rpy="0 0 0" />
    <parent
      link="link_6B" />
    <child
      link="link_6C" />
    <axis
      xyz="0 0 1" />
    <limit
      lower="-3.1416"
      upper="0"
      effort="1000"
      velocity="1" />
  </joint>
  <link
    name="end_6">
    <inertial>
      <origin
        xyz="-0.00410004483584098 0.019598966764709 0.0438432984176527"
        rpy="0 0 0" />
      <mass
        value="0.000121627101665074" />
      <inertia
        ixx="4.52377066090492E-10"
        ixy="-1.13461447962352E-25"
        ixz="6.52941298796618E-27"
        iyy="8.99721204847112E-10"
        iyz="-2.40168402249804E-26"
        izz="4.52377066090492E-10" />
    </inertial>
    <visual>
      <origin
        xyz="0 0 0"
        rpy="0 0 0" />
      <geometry>
        <mesh
          filename="package://Main_body_and_legs_assembly_v2/meshes/end_6.STL" />
      </geometry>
      <material
        name="">
        <color
          rgba="0.776470588235294 0.756862745098039 0.737254901960784 1" />
      </material>
    </visual>
    <collision>
      <origin
        xyz="0 0 0"
        rpy="0 0 0" />
      <geometry>
        <mesh
          filename="package://Main_body_and_legs_assembly_v2/meshes/end_6.STL" />
      </geometry>
    </collision>
  </link>
  <joint
    name="end_6"
    type="fixed">
    <origin
      xyz="0.11638 0.19263 0"
      rpy="1.5708 0 0" />
    <parent
      link="link_6C" />
    <child
      link="end_6" />
    <axis
      xyz="0 0 0" />
  </joint>
</robot>
